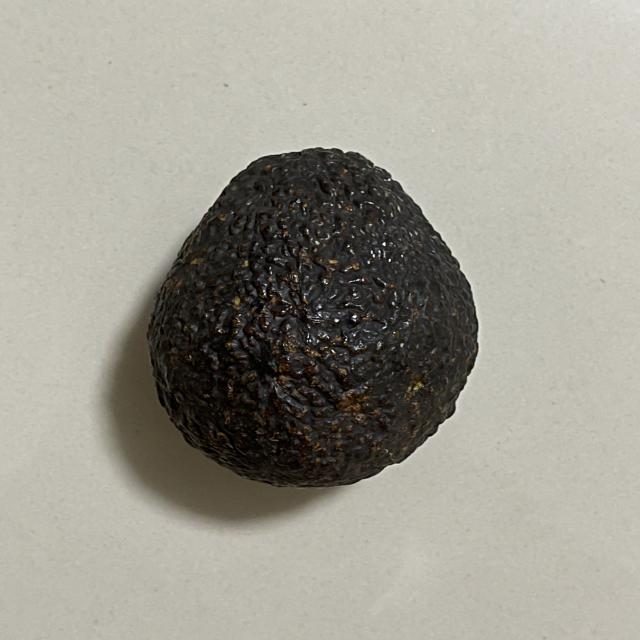Level2: (140, 138, 487, 494)
